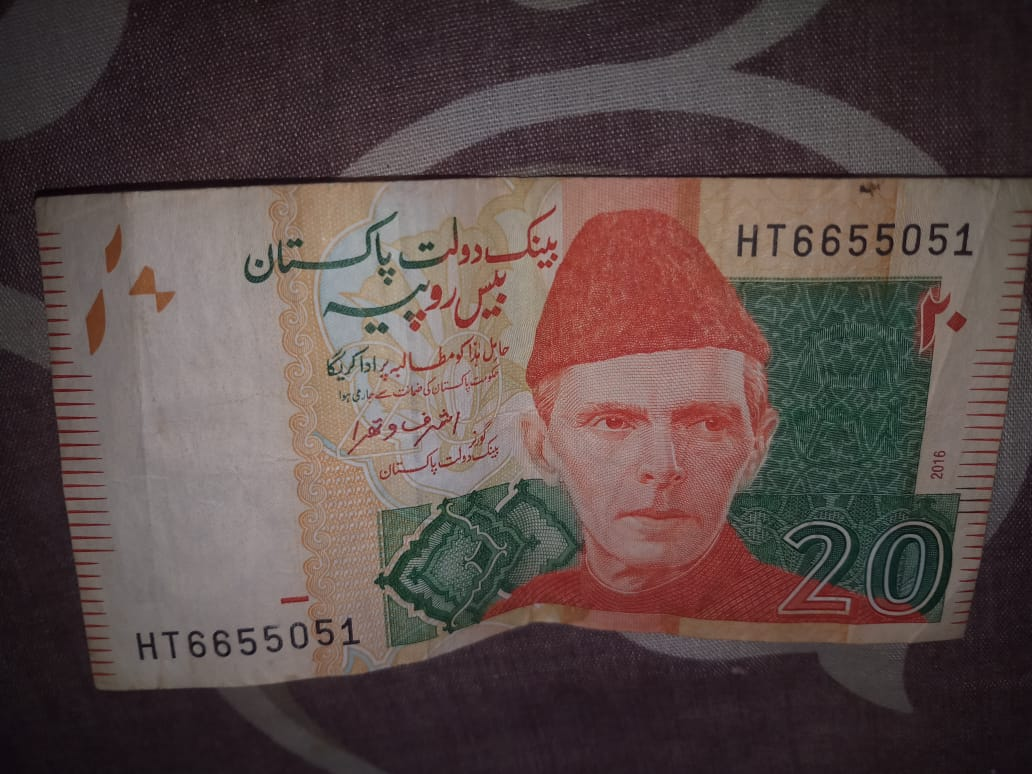20 rupee: (38, 147, 995, 710)
